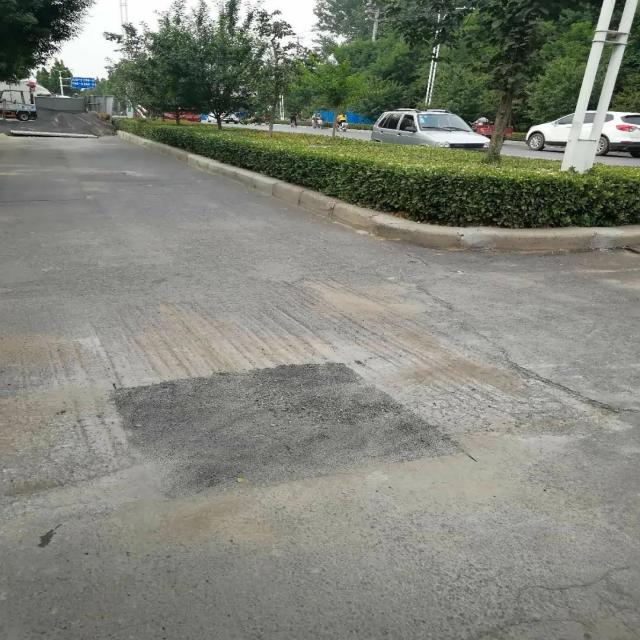Pothole: (83, 361, 463, 490)
